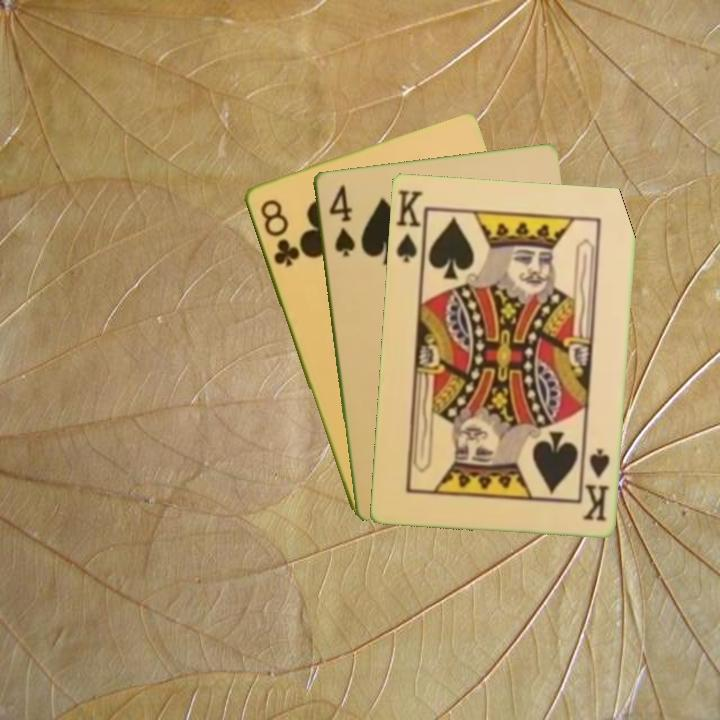4s: (324, 180, 357, 260)
8c: (256, 195, 302, 270)
Ks: (578, 444, 613, 523), (392, 186, 425, 265)
